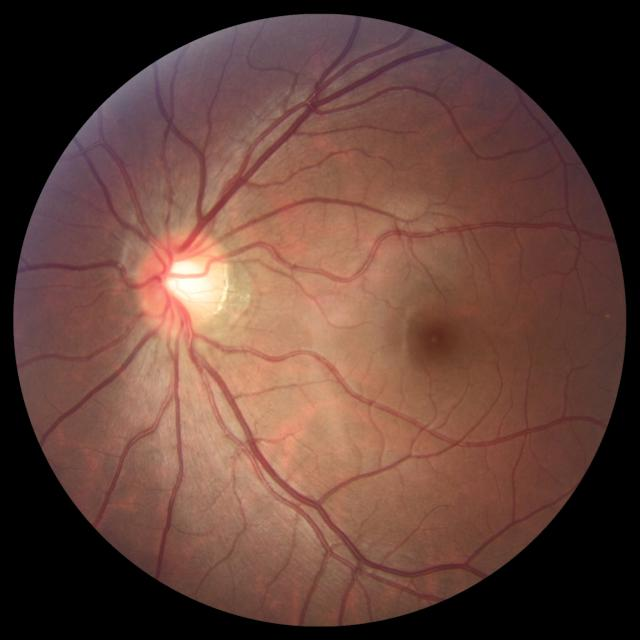OC: (163, 253, 207, 299)
OD: (137, 226, 230, 336)
